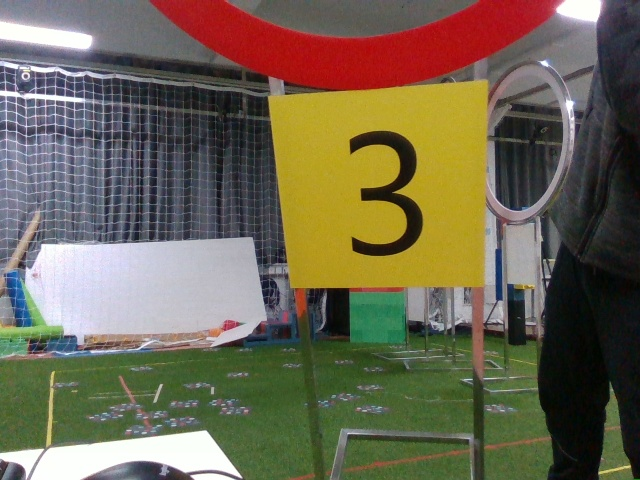target: (279, 99, 483, 285)
